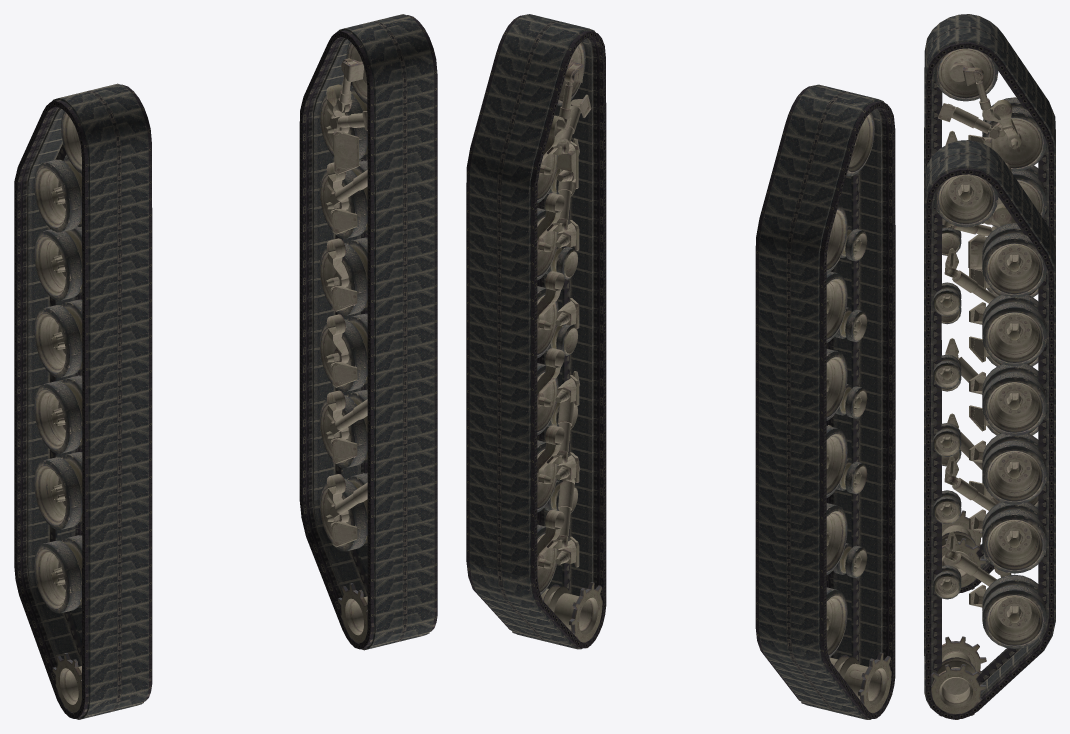
Rendered from Chassis.glb.
3 views of the same model, side by side, from view 1: azimuth 30°, elevation 25°; view 2: azimuth 150°, elevation 25°; view 3: azimuth 270°, elevation 25° (orthographic). The views are drawn at different scales.
Parts seen in each view (by area): view 1: set_0_group_0, set_1_group_0, set_3_group_0, set_2_group_0; view 2: set_0_group_0, set_1_group_0, set_3_group_0, set_2_group_0; view 3: set_3_group_0, set_1_group_0, set_2_group_0, set_0_group_0.
Boxes of the visible parts, <box> form: set_0_group_0: <box>14,83,152,719</box>; set_1_group_0: <box>299,14,437,650</box>; set_3_group_0: <box>319,41,436,649</box>; set_2_group_0: <box>34,111,151,719</box>; set_0_group_0: <box>755,84,895,719</box>; set_1_group_0: <box>466,14,606,649</box>; set_3_group_0: <box>512,41,602,649</box>; set_2_group_0: <box>801,112,891,719</box>; set_3_group_0: <box>925,174,1046,719</box>; set_1_group_0: <box>924,140,1055,719</box>; set_2_group_0: <box>934,48,1046,589</box>; set_0_group_0: <box>924,14,1055,593</box>.
Size of the model in its own units: 3.73 by 6.19 by 1.34.
Materials: 4 (4 with a texture image).
